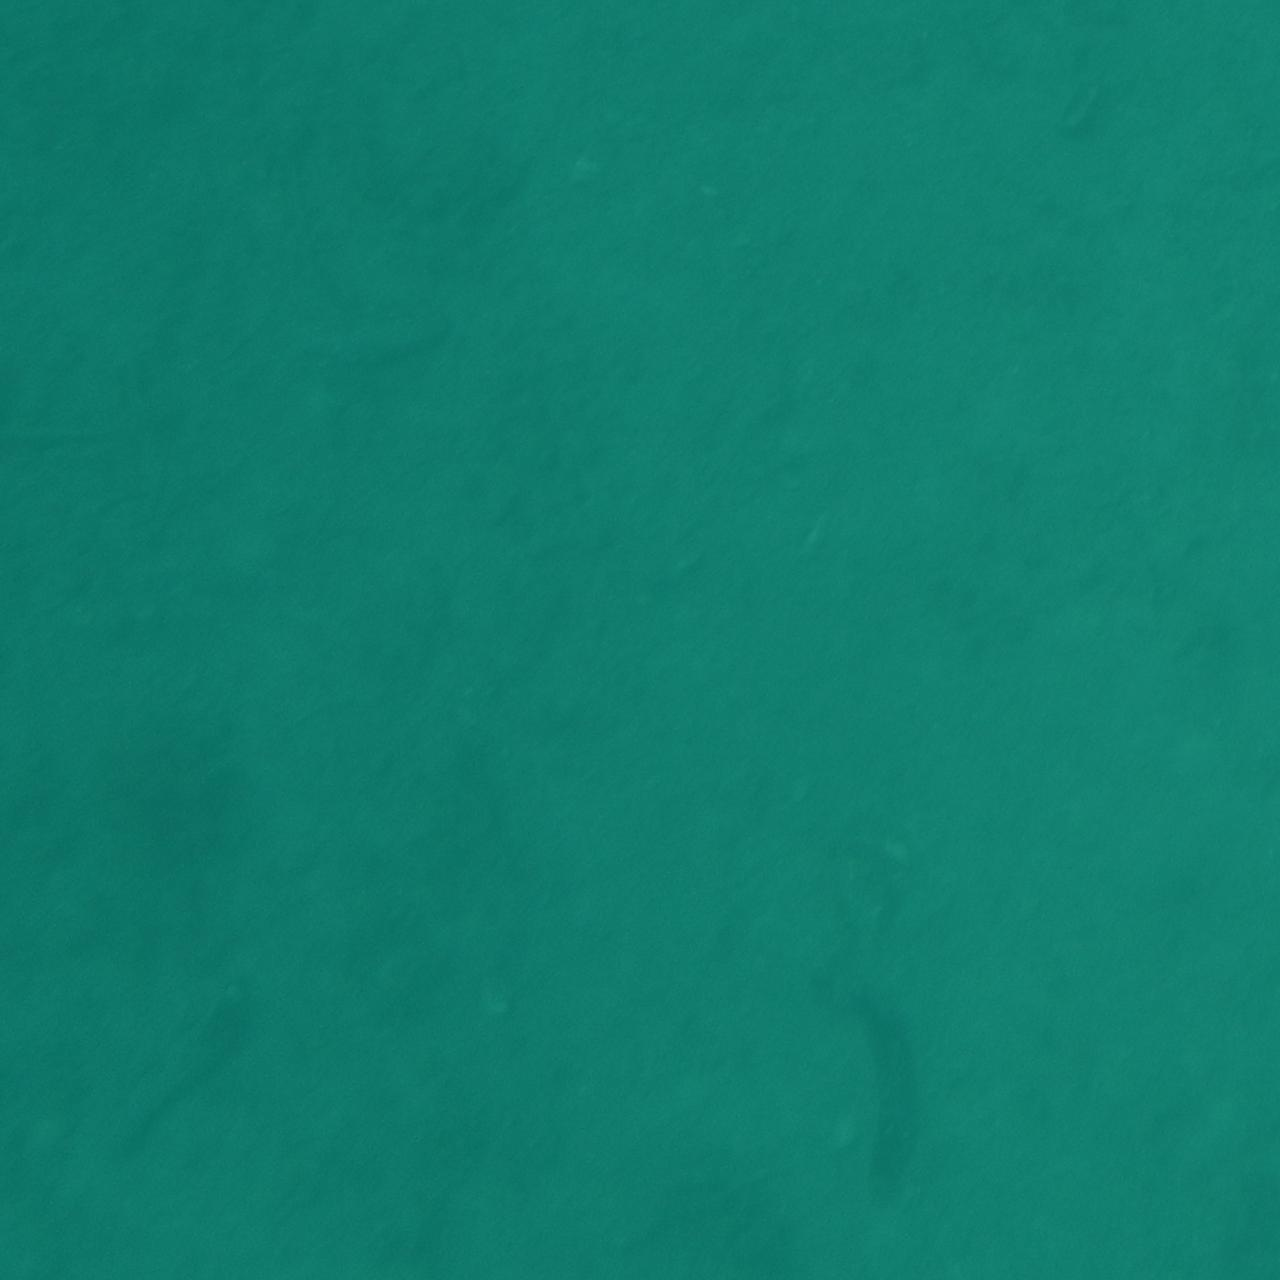Holothuria tubulosa: (0, 38, 147, 346), (50, 972, 275, 1155), (1138, 647, 1280, 881), (808, 952, 926, 1225), (1167, 463, 1280, 651), (0, 292, 63, 502)
